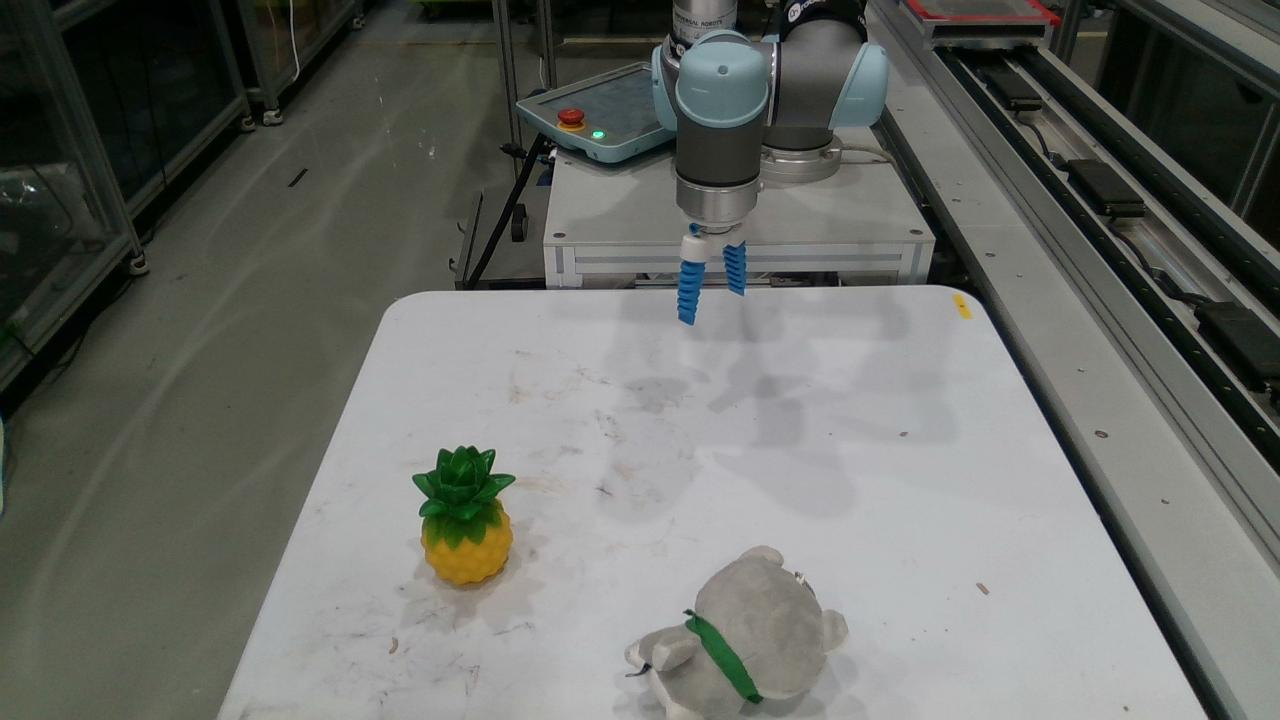UR5: (656, 1, 882, 260)
gripper_left: (678, 262, 702, 323)
gripper_right: (722, 242, 742, 294)
target: (628, 547, 846, 719), (414, 447, 510, 584)
